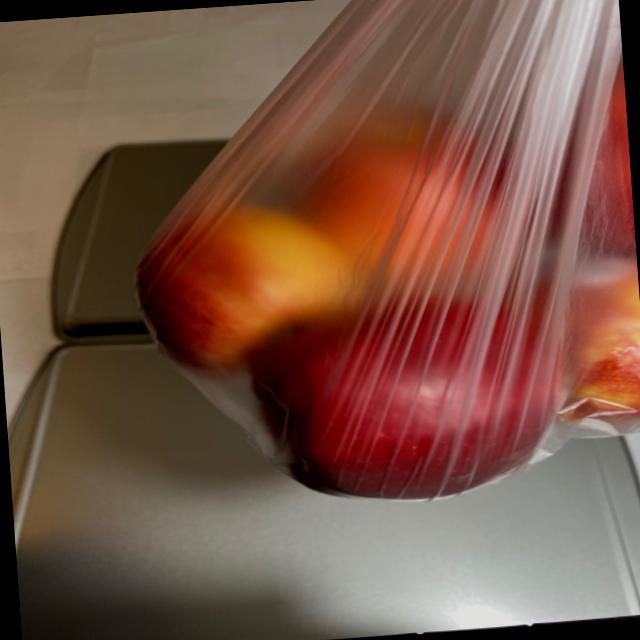apple: (124, 65, 640, 523)
